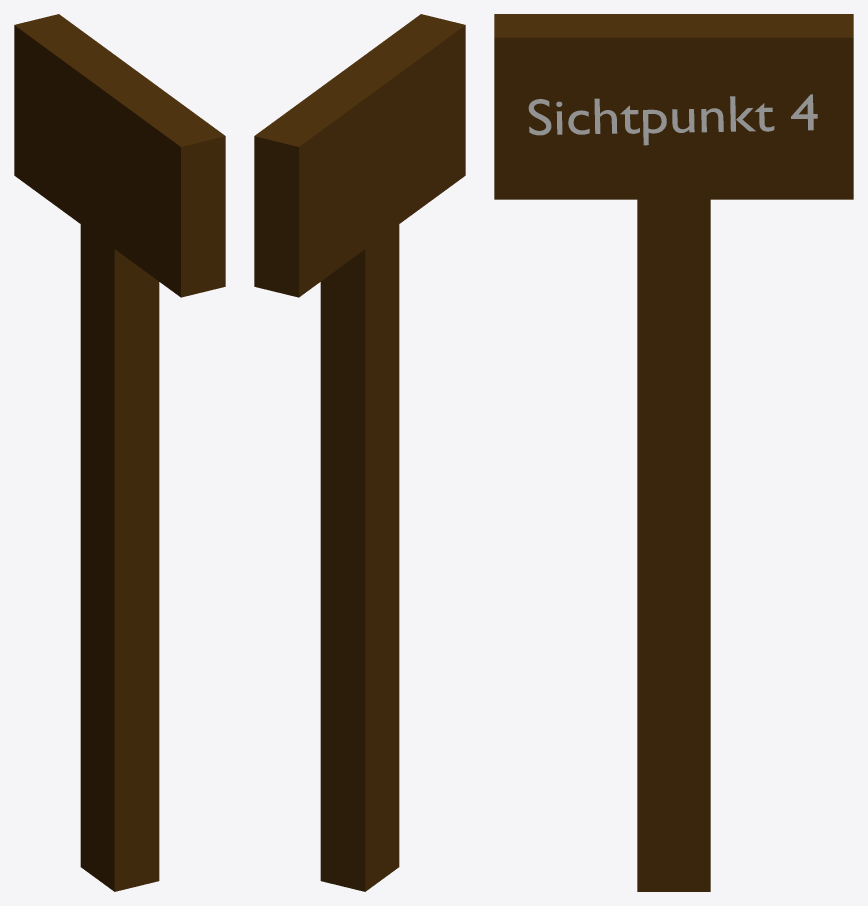
Rendered from Sichtpunkt4_Schild.fbx.
The picture shows the model from 3 angles, left to right: view 1: azimuth 30°, elevation 25°; view 2: azimuth 150°, elevation 25°; view 3: azimuth 270°, elevation 25°; orthographic projection. The views are drawn at different scales.
Visible parts, largest first — view 1: Cube, Cube.001; view 2: Cube, Cube.001; view 3: Cube.001, Cube, Text.
Part boxes in pixels (left/top/right/bottom): Cube: left=80, top=224, right=159, bottom=891; Cube.001: left=14, top=14, right=225, bottom=297; Cube: left=320, top=218, right=399, bottom=891; Cube.001: left=254, top=14, right=465, bottom=297; Cube.001: left=494, top=14, right=853, bottom=199; Cube: left=637, top=192, right=710, bottom=891; Text: left=528, top=94, right=817, bottom=145.
Size of the model in its own units: 76.49 by 1119 by 427.
